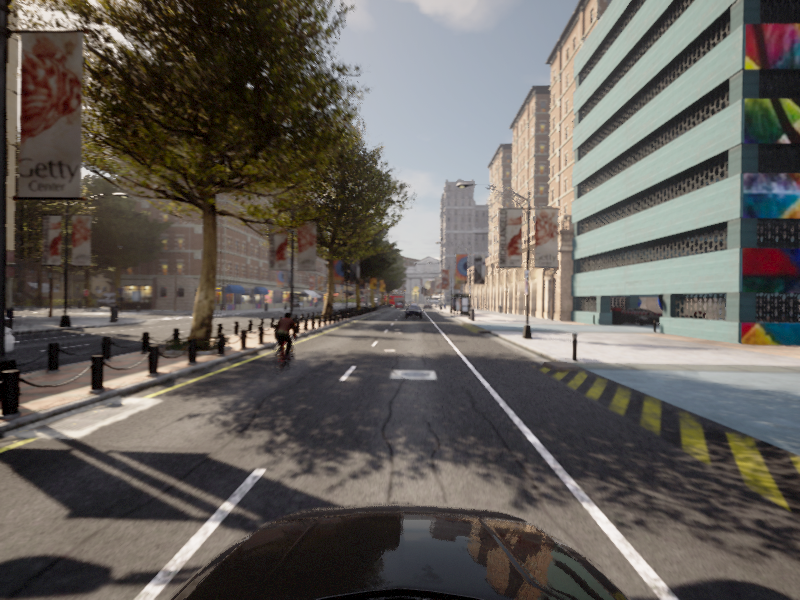vehicle: (1, 283, 29, 437), (263, 311, 304, 377), (404, 305, 422, 318)
